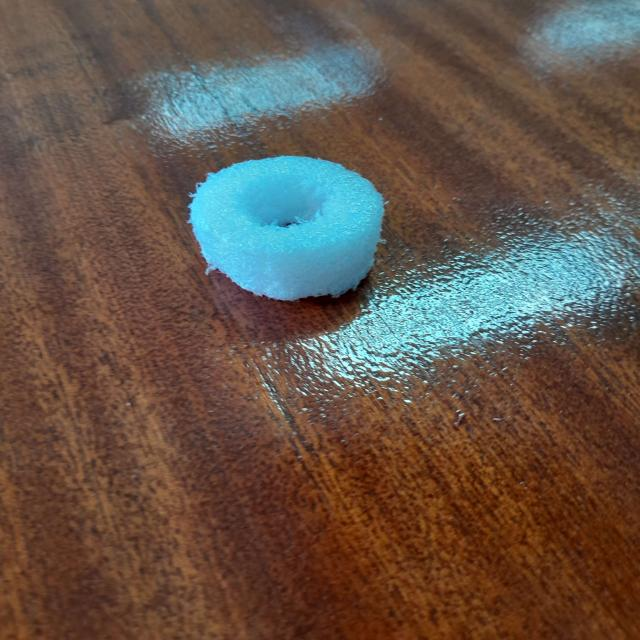wheel: (188, 158, 396, 302)
